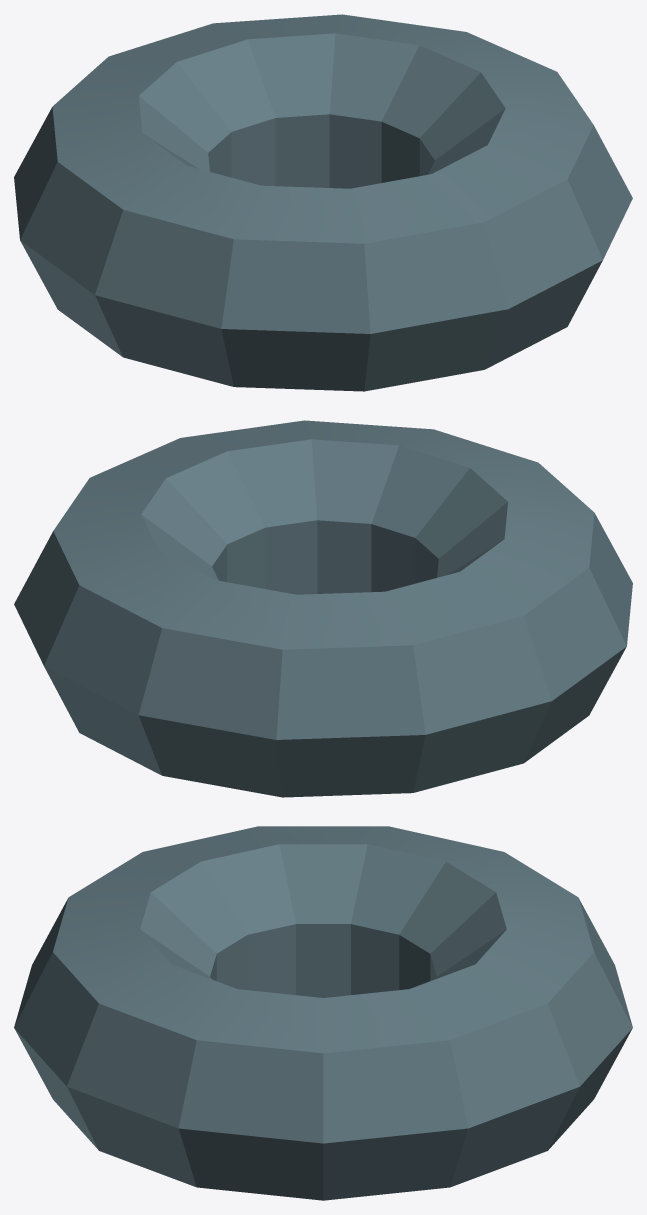
The picture shows the model from 3 angles, top to bottom: view 1: azimuth 30°, elevation 25°; view 2: azimuth 150°, elevation 25°; view 3: azimuth 270°, elevation 25°; orthographic projection.
Visible parts, largest first — view 1: Torus; view 2: Torus; view 3: Torus.
Boxes of the visible parts, <box> form: Torus: <box>14,14,632,391</box>; Torus: <box>14,420,632,797</box>; Torus: <box>14,826,632,1200</box>.
Bounding box in the file's own units: 2.96 × 0.9749 × 2.98.
